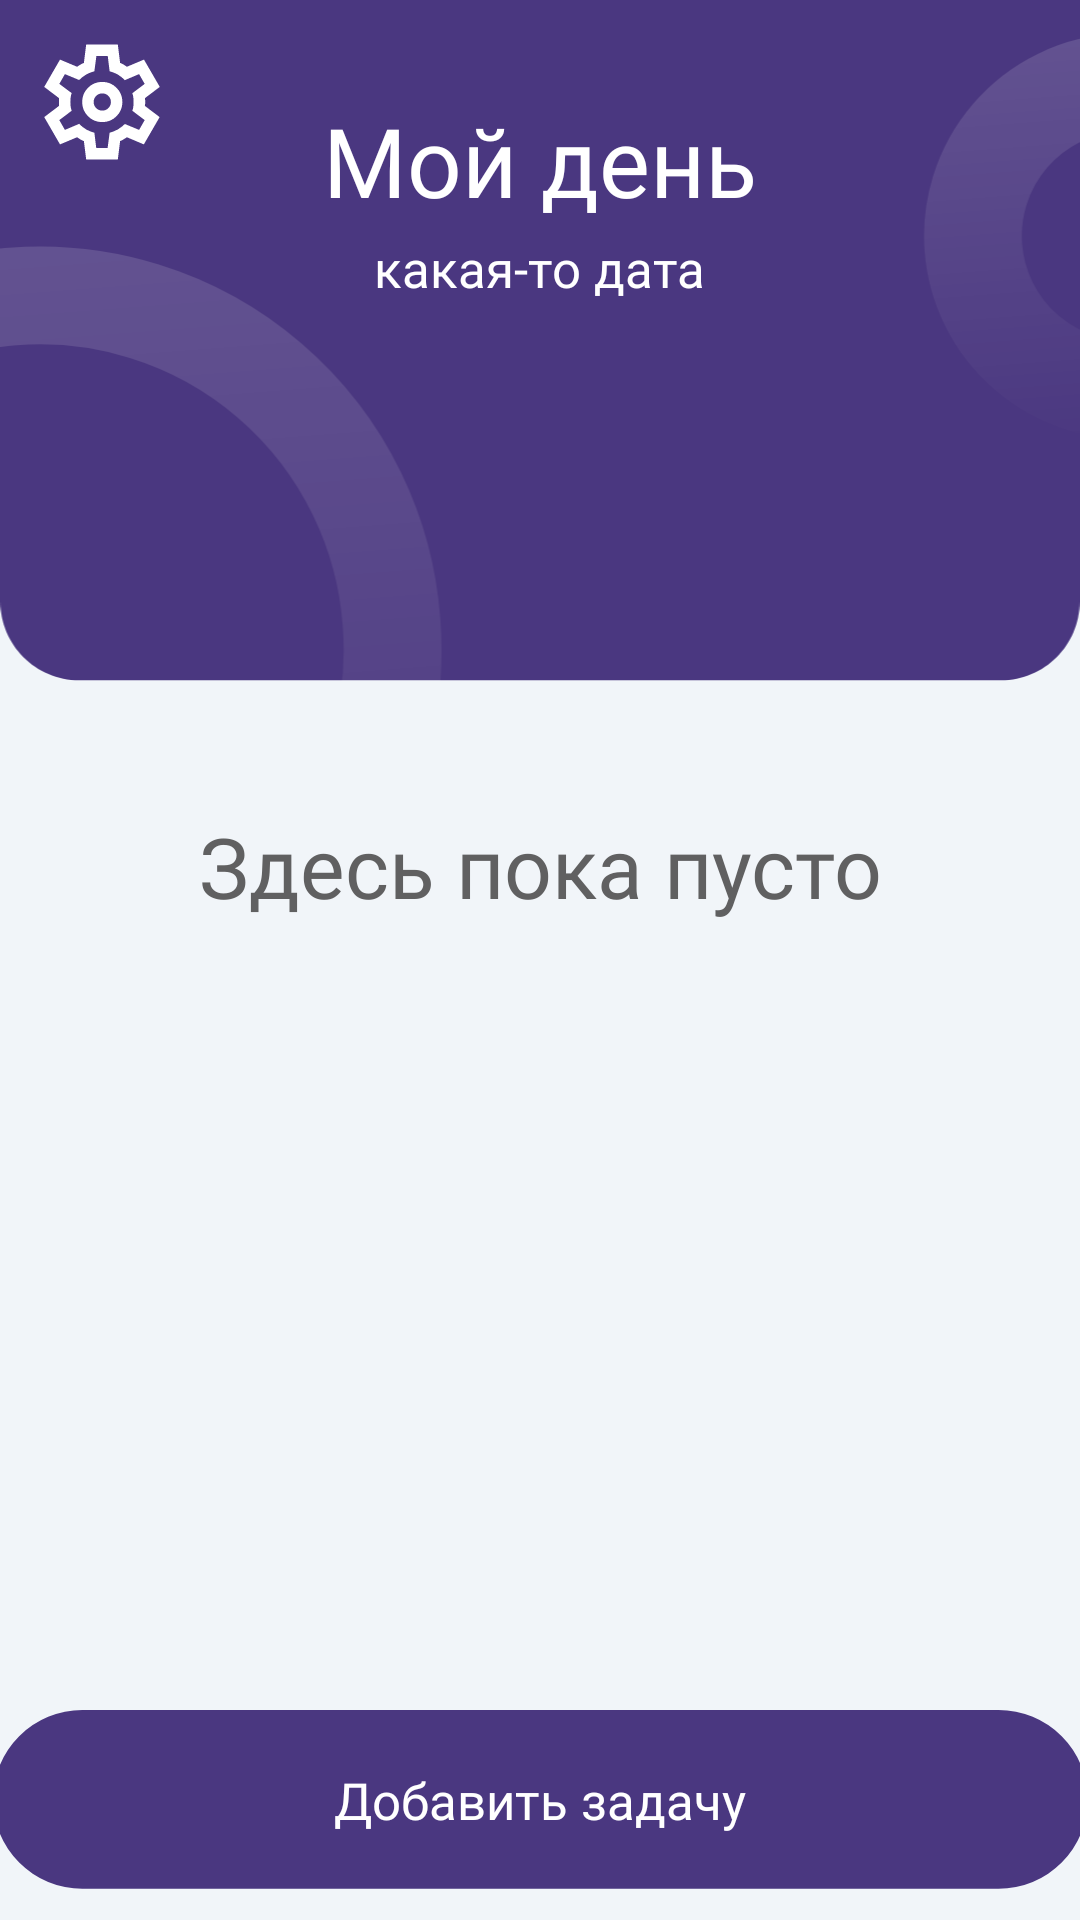

Where to tap for icons on this 1080px×1920px app screen, as point (x, y):
settings: point (102, 102)
